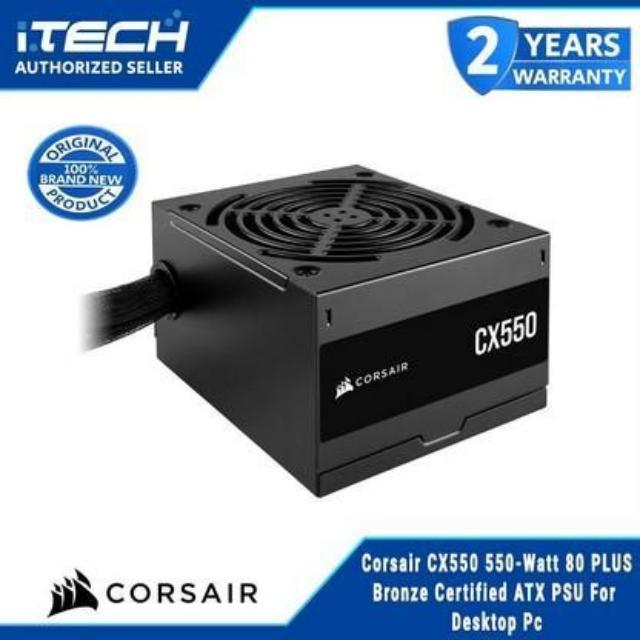PSU: (137, 145, 566, 497)
